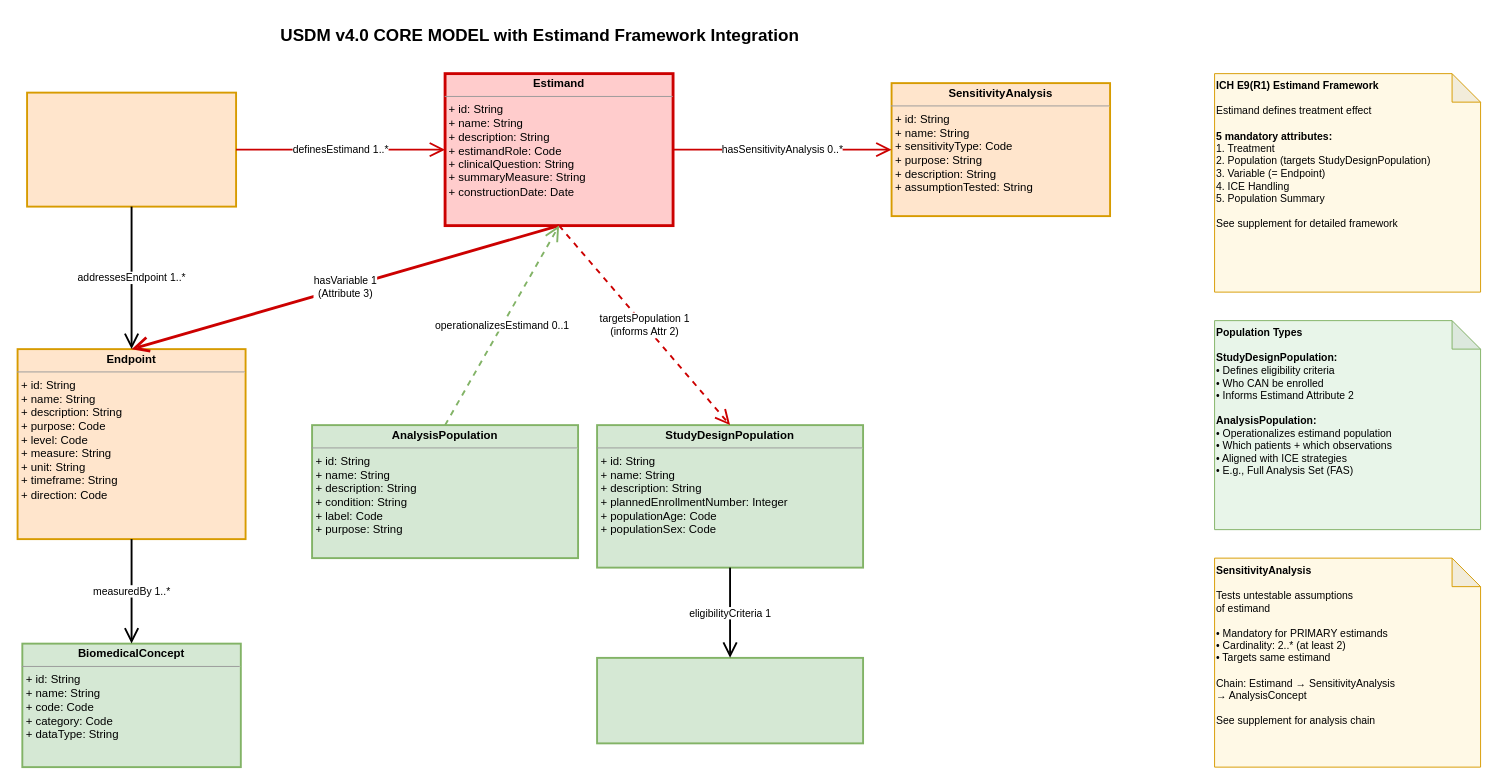
Image size: 1497x784. Some labels were removed from this diagram. Here are the shapes that lost their labels. From the top down, the centre of each, then its label:
[131,149]: Objective + id: String + description: String + level: Code + endpoints: String
[730,700]: EligibilityCriteria + id: String + name: String + description: String
